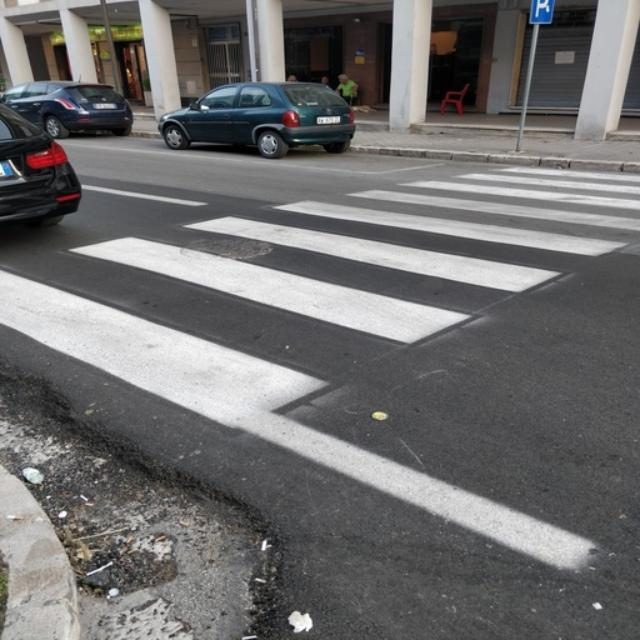sidewalk: (0, 162, 640, 469)
